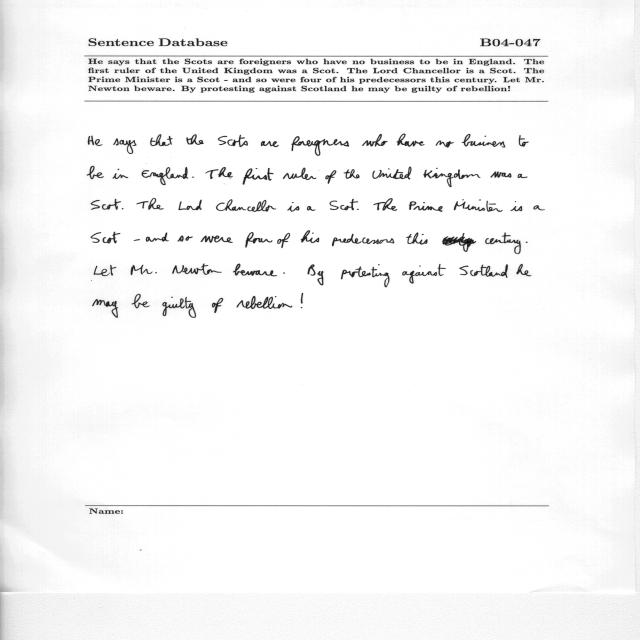word: (292, 136, 349, 156), (341, 264, 390, 287), (423, 168, 481, 187), (142, 167, 189, 185), (402, 264, 446, 283), (216, 199, 276, 212), (485, 233, 521, 254), (332, 234, 394, 246), (237, 296, 293, 309), (163, 297, 197, 318), (459, 264, 508, 278), (443, 233, 477, 252), (454, 199, 503, 212), (462, 134, 505, 147), (172, 264, 222, 275), (233, 264, 277, 276), (243, 168, 274, 185), (373, 167, 412, 180), (93, 299, 118, 318), (246, 232, 273, 248), (283, 168, 316, 180), (113, 138, 137, 154), (409, 201, 443, 212), (397, 134, 425, 147), (218, 135, 248, 147), (205, 167, 233, 179), (136, 198, 164, 210), (308, 265, 324, 286), (91, 199, 121, 210), (91, 232, 120, 243), (373, 198, 397, 211), (330, 199, 358, 210), (362, 134, 387, 146), (406, 232, 428, 245), (150, 134, 173, 146), (200, 235, 233, 243), (131, 265, 157, 275), (132, 294, 150, 308), (94, 265, 116, 276), (179, 200, 203, 210), (146, 232, 169, 242), (301, 231, 320, 243), (87, 166, 104, 179), (186, 134, 204, 145), (277, 233, 290, 248), (517, 264, 532, 276), (212, 298, 223, 313), (344, 169, 360, 179), (326, 170, 337, 184), (113, 169, 128, 179), (88, 136, 102, 146), (435, 141, 454, 148), (287, 202, 300, 212), (491, 172, 512, 178), (519, 135, 529, 147), (511, 201, 523, 211), (261, 141, 279, 147), (178, 236, 193, 242), (533, 206, 545, 211), (301, 294, 304, 309), (518, 174, 528, 178), (307, 206, 315, 211), (133, 239, 140, 241), (192, 176, 194, 178), (283, 272, 285, 274), (122, 208, 123, 210), (357, 209, 359, 210), (526, 242, 528, 243)
